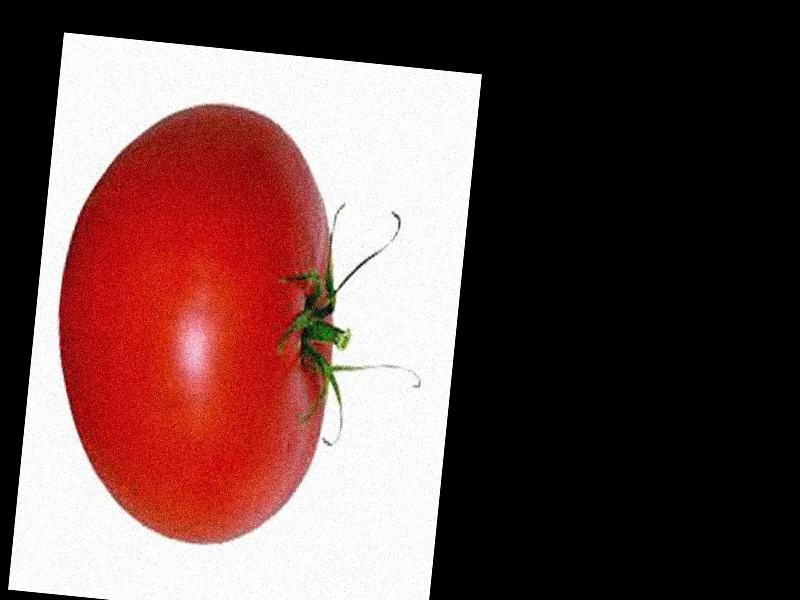Tomato: (39, 94, 355, 551)
